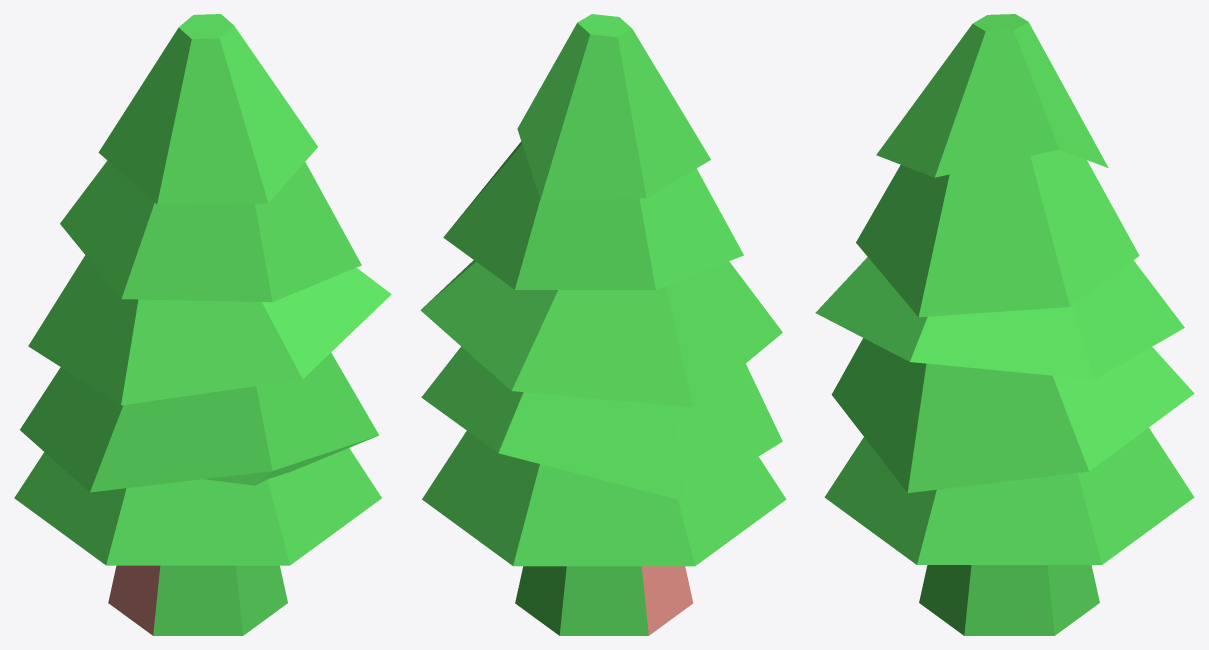
Rendered from low-poly-tree-2.fbx.
3 views of the same model, side by side, from view 1: azimuth 30°, elevation 25°; view 2: azimuth 150°, elevation 25°; view 3: azimuth 270°, elevation 25° (orthographic).
Visible parts, largest first — view 1: Cylinder; view 2: Cylinder; view 3: Cylinder.
Boxes of the visible parts, <box> form: Cylinder: <box>14,14,391,635</box>; Cylinder: <box>420,14,786,635</box>; Cylinder: <box>815,14,1194,635</box>.
Bounding box in the file's own units: 419 × 371 × 713.
